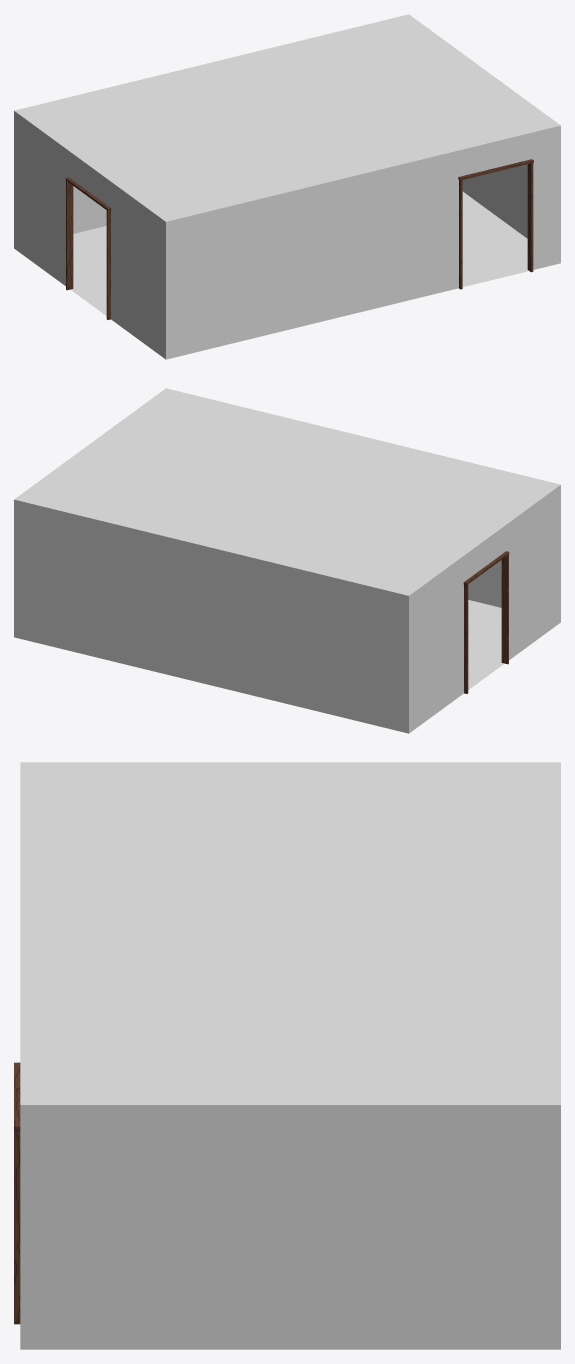
File: 2x3room_bedroom 1.fbx
3 views of the same model, one above another, from view 1: azimuth 30°, elevation 25°; view 2: azimuth 150°, elevation 25°; view 3: azimuth 270°, elevation 25° (orthographic). The views are drawn at different scales.
Visible parts, largest first — view 1: 2x3 Room "Bedroom"; view 2: 2x3 Room "Bedroom"; view 3: 2x3 Room "Bedroom".
Boxes of the visible parts, x1,y1,x2,y2 form: 2x3 Room "Bedroom": (14, 14, 560, 359); 2x3 Room "Bedroom": (14, 388, 560, 733); 2x3 Room "Bedroom": (14, 762, 560, 1349).
Bounding box in the file's own units: 945 × 313 × 632.
3 materials, 1 textured.
